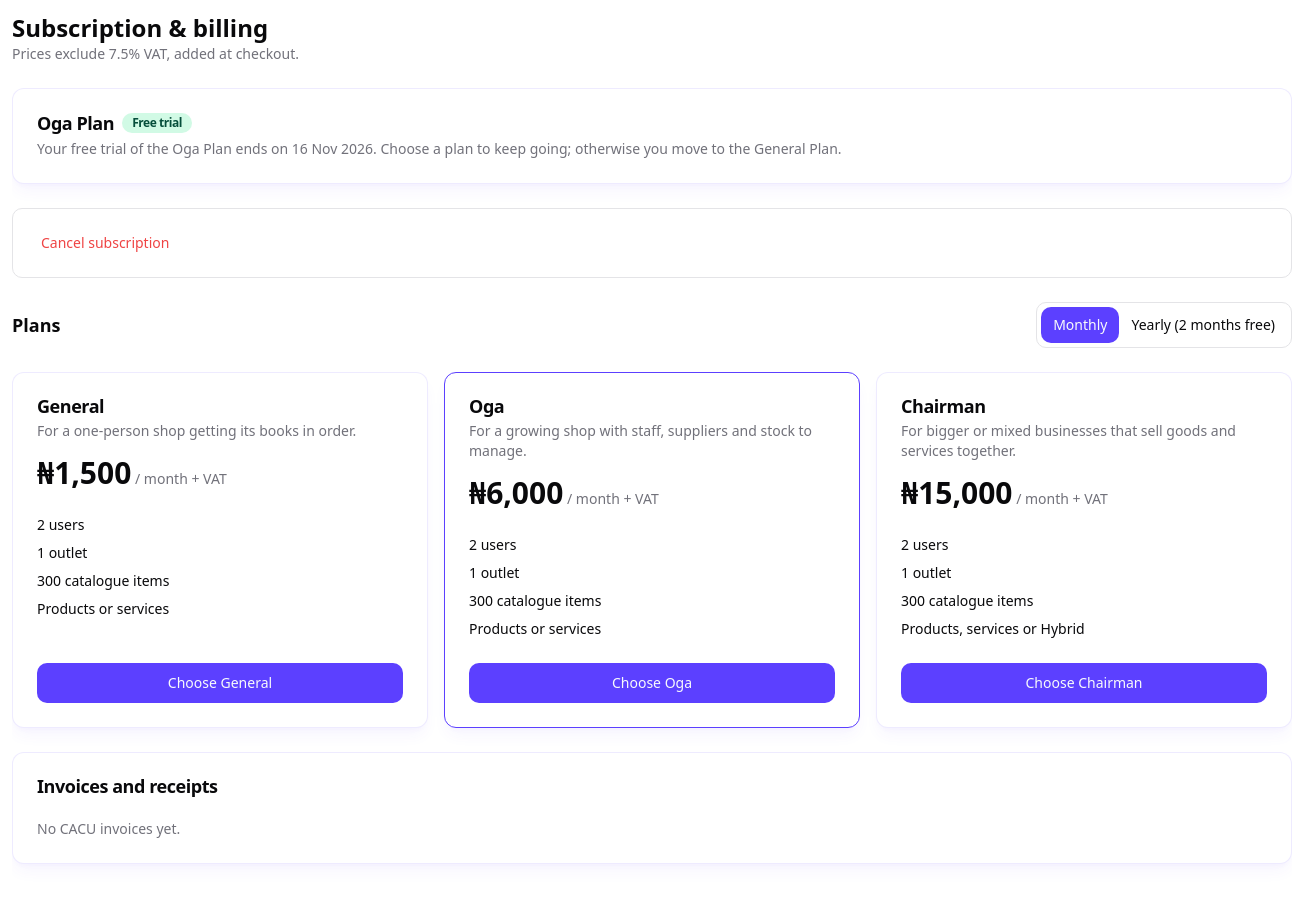
Test: the trial, prices before VAT and the yearly prices are shown
This screenshot has width=1292, height=912.
Expected: the heading "Oga Plan Free trial" is shown, [37, 111, 192, 135]
Expected: the text "Free trial" is shown, [122, 113, 192, 133]
Click the button "Yearly (2 months free)" at (1203, 325), box [1119, 307, 1287, 343]
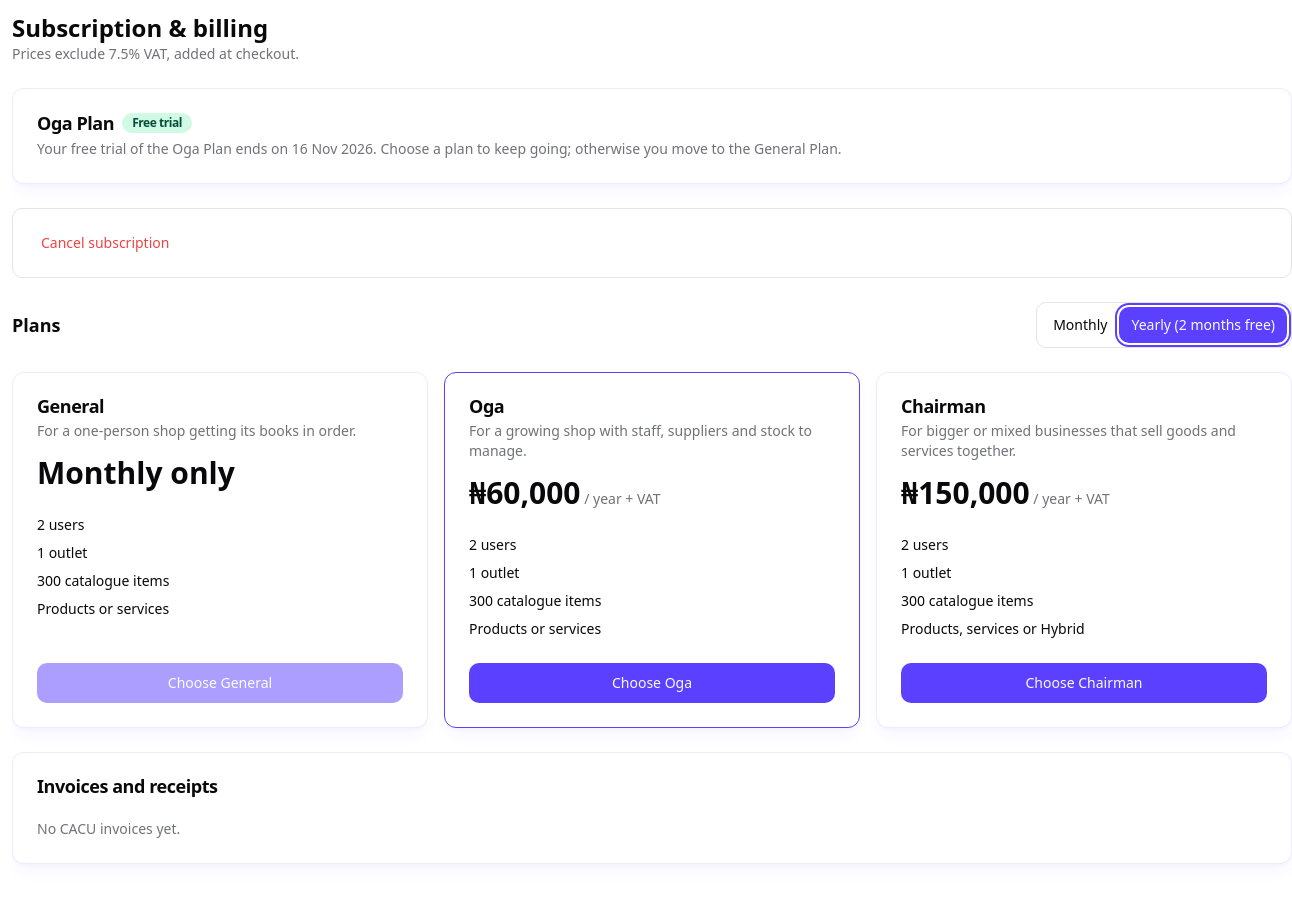
Expected: the text "₦150,000" is shown, [901, 472, 1030, 513]
Expected: the text "Monthly only" is shown, [37, 452, 235, 493]
Expected: the button "Choose General" is disabled, [37, 663, 403, 703]
